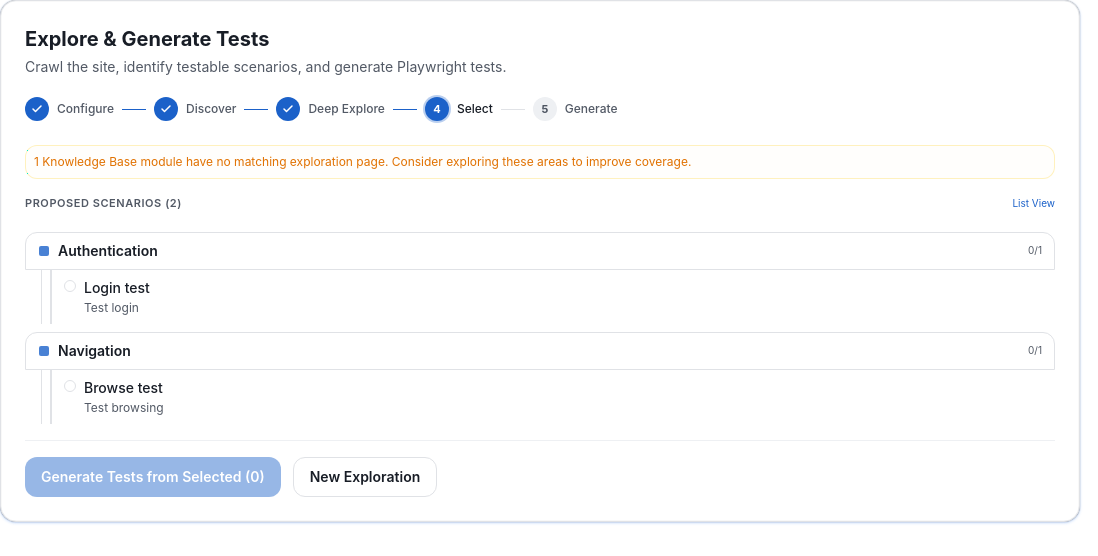
Test: ExplorePage › renders KB module badge on scenarios with kb_module in list view
Click the button "List View" at (1034, 203), box x1=1012 y1=196 x2=1055 y2=211
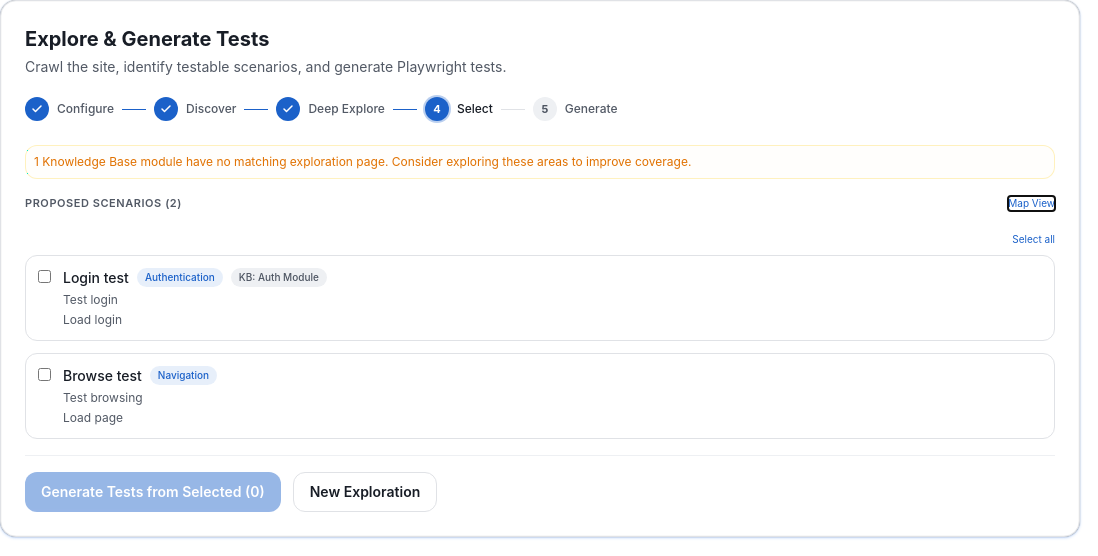
Result: the text "KB: Auth Module" is shown once at x1=231 y1=268 x2=327 y2=287
